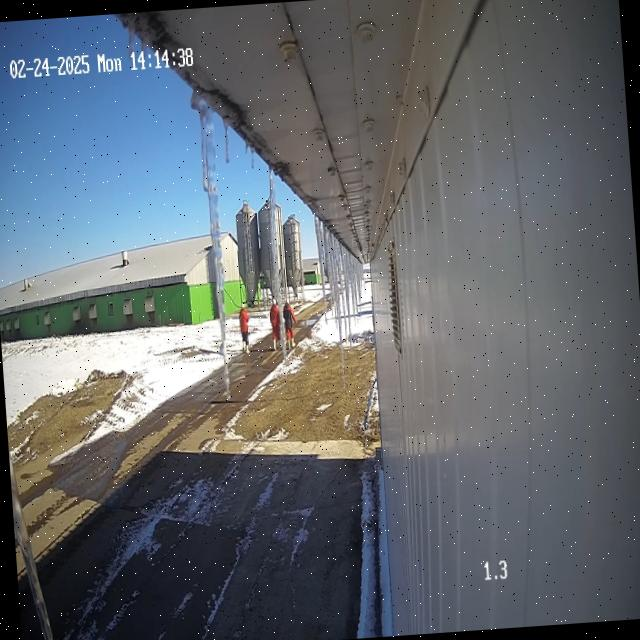Red uniform: (269, 298, 280, 350), (238, 303, 249, 353), (283, 302, 296, 342)
